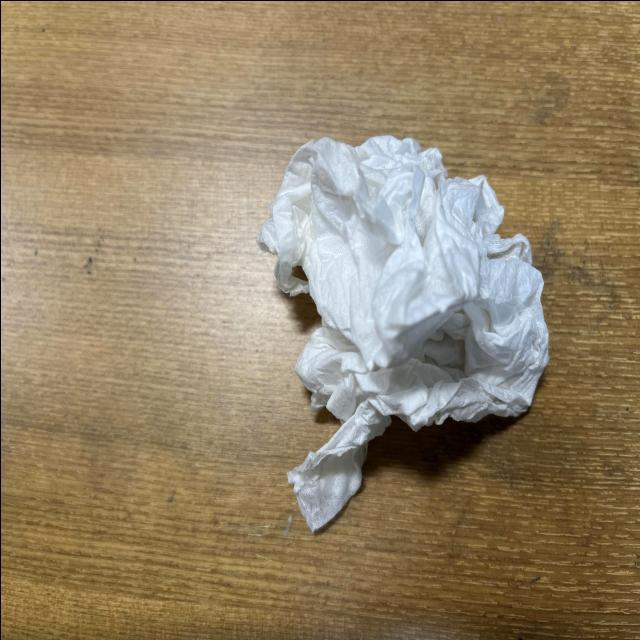Paper: (254, 128, 558, 523)
